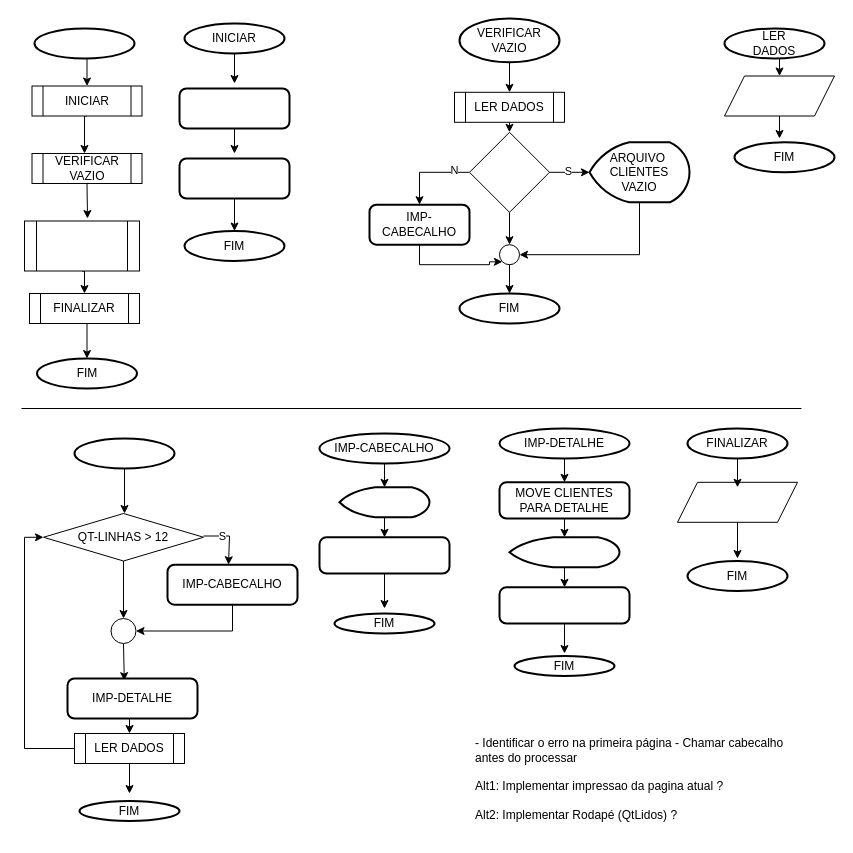
The diagram is 853 pixels wide and 853 high, and some of its shapes have lost their labels. Here are the shapes that lost their labels. From the top down, the box of each, then its label:
(33, 27, 135, 59): INICIO
(178, 87, 290, 129): ABRIR CLIENTES
(724, 75, 834, 116): LER CLIENTES
(178, 157, 290, 199): QT-LINHAS = 0
(468, 131, 550, 212): EOF
(24, 220, 140, 271): PROCESSAR até EOF de CLIENTES
(73, 437, 175, 469): PROCESSAR
(338, 486, 430, 518): CABECALHO
(676, 481, 798, 522): FECHAR CLIENTES
(318, 536, 450, 574): MOVE 4 TO QT-LINHAS
(508, 536, 620, 568): DETALHE
(498, 586, 630, 624): QT-LINHAS + 1
